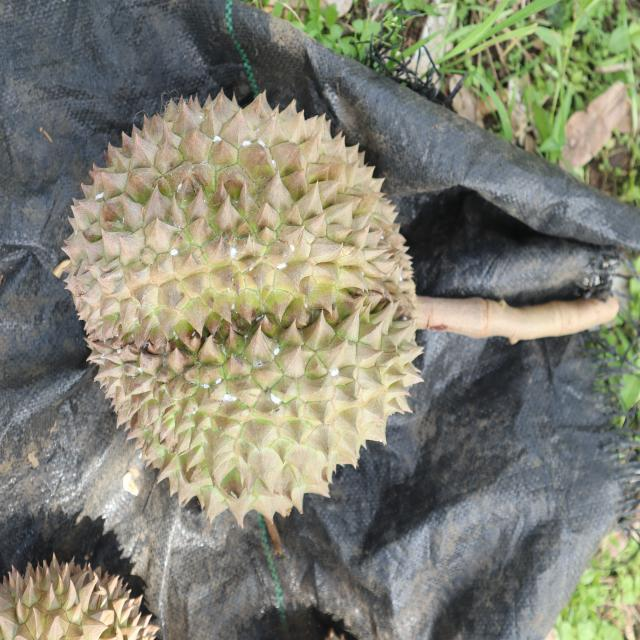mature: (63, 87, 426, 531)
